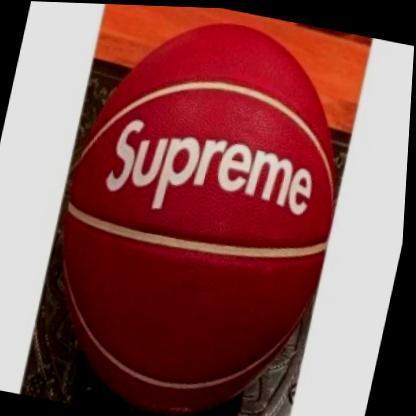basketball: (29, 1, 372, 416)
